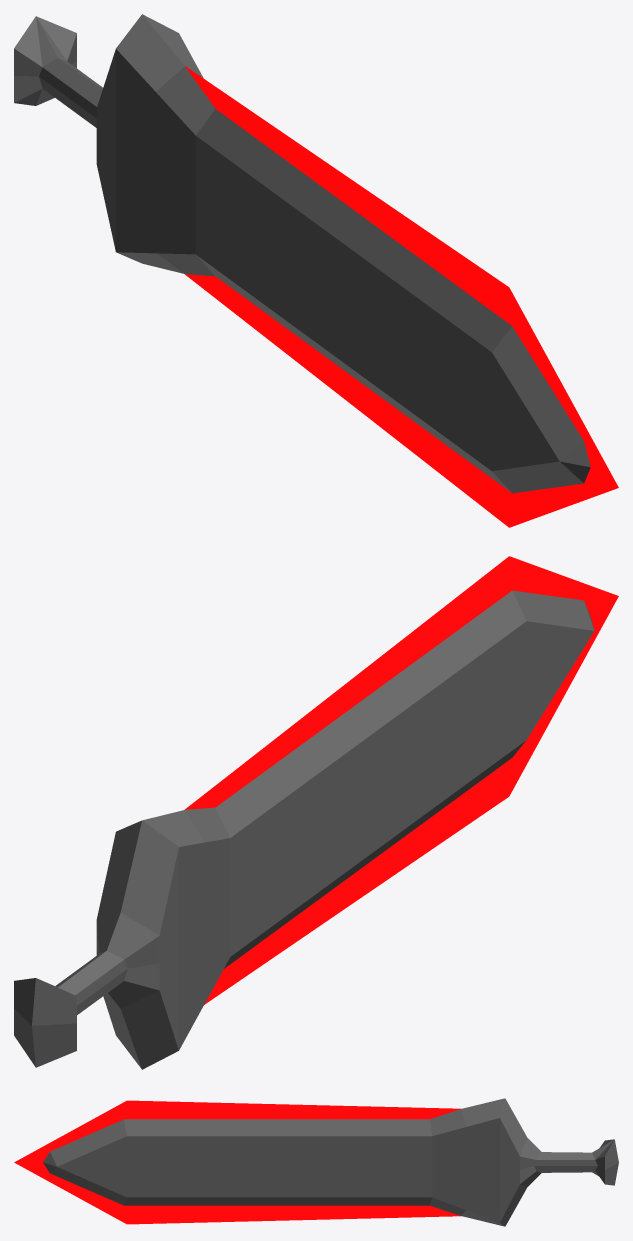
Rendered from GreatSword.glb.
3 views of the same model, one above another, from view 1: azimuth 30°, elevation 25°; view 2: azimuth 150°, elevation 25°; view 3: azimuth 270°, elevation 25° (orthographic). The views are drawn at different scales.
Visible parts, largest first — view 1: Weapon; view 2: Weapon; view 3: Weapon.
Boxes of the visible parts, x1,y1,x2,y2 form: Weapon: (14,14,618,527); Weapon: (14,556,618,1069); Weapon: (14,1098,618,1226).
Size of the model in its own units: 0.0941 by 0.3559 by 1.52.
